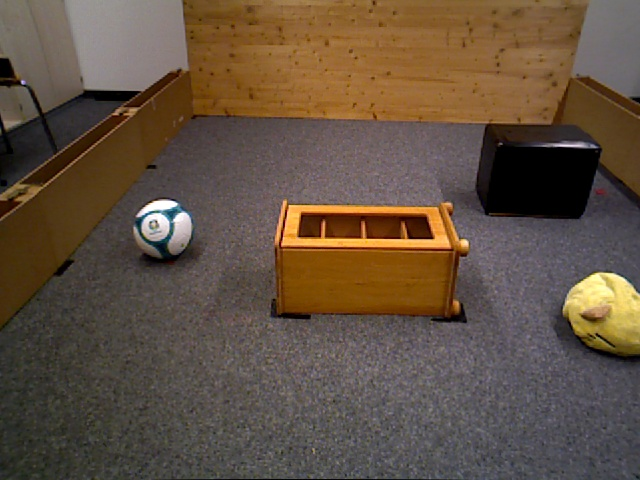grasp: (561, 271, 640, 356)
kick: (134, 198, 194, 261)
push: (480, 124, 603, 222)
